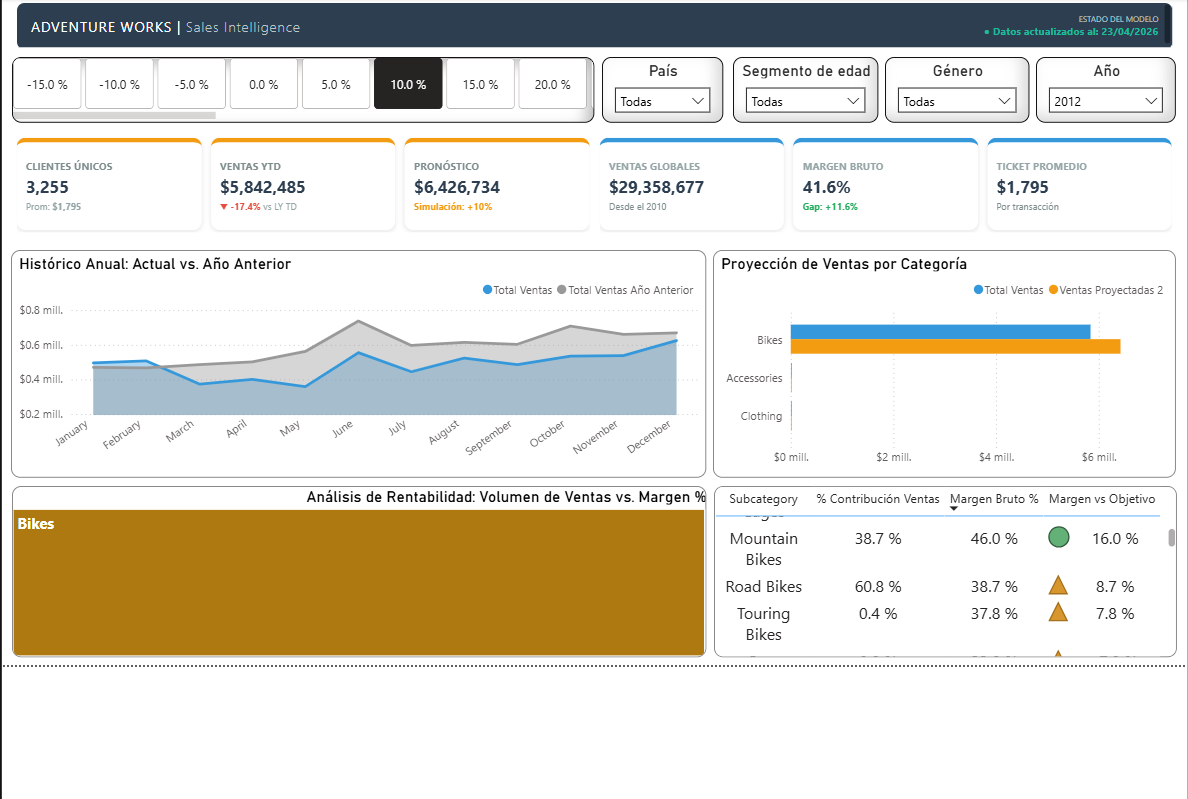

The dashboard page shown, as its layout file describes it:
{"tool":"powerbi","page":{"name":"Ventas","canvas":[1280,720],"ordinal":0},"visuals":[{"type":"htmlContent443BE3AD55E043BF878BED274D3A6865","fields":{"content":["Medidas.HTML_Panel_Eficiencia"]},"box":[10.6,145.9,629.4,111.8],"z":0},{"type":"htmlContent443BE3AD55E043BF878BED274D3A6865","fields":{"content":["Medidas.HTML_Header"]},"box":[10.6,0,1257.6,57.6],"z":1000},{"type":"htmlContent443BE3AD55E043BF878BED274D3A6865","fields":{"content":["Medidas.HTML_Panel_Principal"]},"box":[640,145.9,628.2,111.8],"z":2000},{"type":"advancedSlicerVisual","fields":{"Values":["Escenario Crecimiento.Escenario Crecimiento"]},"box":[10.6,63.5,629.4,70.6],"z":3000},{"type":"areaChart","title":"Histórico Anual: Actual vs. Año Anterior","fields":{"Y":["Medidas.Total Ventas","Medidas.Total Ventas Año Anterior"],"Category":["Calendar.Month_Name"]},"box":[9.7,272.2,750.7,246.3],"z":4000},{"type":"clusteredBarChart","title":"Proyección de Ventas por Categoría","fields":{"Category":["Products.Category"],"Y":["Medidas.Total Ventas","Medidas.Ventas Proyectadas 2"]},"box":[768,272.2,500.1,246.3],"z":5000},{"type":"treemap","title":"Análisis de Rentabilidad: Volumen de Ventas vs. Margen %","fields":{"Group":["Products.Category","Products.Subcategory"],"Values":["Medidas.Total Ventas"]},"box":[10.8,527.1,749.6,184.7],"z":6000},{"type":"slicer","title":"Año","fields":{"Values":["Calendar.Year"]},"box":[1117.2,63.5,151.4,70.7],"z":7000},{"type":"slicer","title":"Segmento de edad","fields":{"Values":["Customers.Segmento Edad"]},"box":[789.8,63.5,156.9,70.7],"z":8000},{"type":"slicer","title":"País","fields":{"Values":["Customers.Country"]},"box":[648.4,63.5,130.6,70.7],"z":9000},{"type":"slicer","title":"Género","fields":{"Values":["Customers.Gender"]},"box":[954,63.5,156,70.7],"z":9001},{"type":"tableEx","fields":{"Values":["Products.Subcategory","Medidas.% Contribución Ventas","Medidas.Margen Bruto %","Medidas.Margen vs Objetivo"]},"box":[769.1,527.1,500.1,184.7],"z":9002}]}

Visuals, with their boxes on the page's 1280x720 design canvas (x1, y1, x2, y2). These are canvas units, not pixel positions in the 1188x799 screenshot, which may show the page scaled, cropped or inside an application window:
htmlContent443BE3AD55E043BF878BED274D3A6865 - Medidas.HTML_Panel_Eficiencia: bbox=(11, 146, 640, 258)
htmlContent443BE3AD55E043BF878BED274D3A6865 - Medidas.HTML_Header: bbox=(11, 0, 1268, 58)
htmlContent443BE3AD55E043BF878BED274D3A6865 - Medidas.HTML_Panel_Principal: bbox=(640, 146, 1268, 258)
advancedSlicerVisual - Escenario Crecimiento.Escenario Crecimiento: bbox=(11, 64, 640, 134)
"Histórico Anual: Actual vs. Año Anterior" areaChart: bbox=(10, 272, 760, 518)
"Proyección de Ventas por Categoría" clusteredBarChart: bbox=(768, 272, 1268, 518)
"Análisis de Rentabilidad: Volumen de Ventas vs. Margen %" treemap: bbox=(11, 527, 760, 712)
"Año" slicer: bbox=(1117, 64, 1269, 134)
"Segmento de edad" slicer: bbox=(790, 64, 947, 134)
"País" slicer: bbox=(648, 64, 779, 134)
"Género" slicer: bbox=(954, 64, 1110, 134)
tableEx - Products.Subcategory x Medidas.% Contribución Ventas: bbox=(769, 527, 1269, 712)
